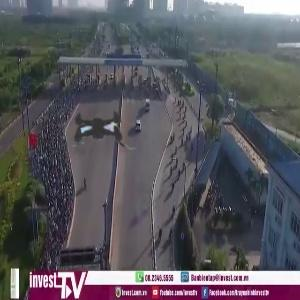drone: (35, 67, 158, 190)
